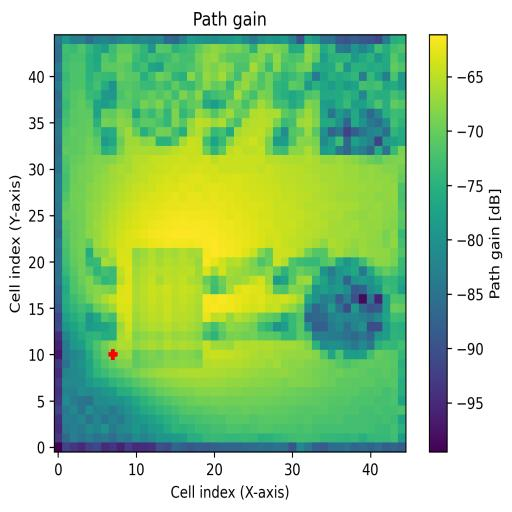Concrete: (297, 42, 398, 154)
Glass: (94, 44, 196, 154)
Metal: (288, 248, 388, 360)
Wood: (132, 247, 202, 368)
